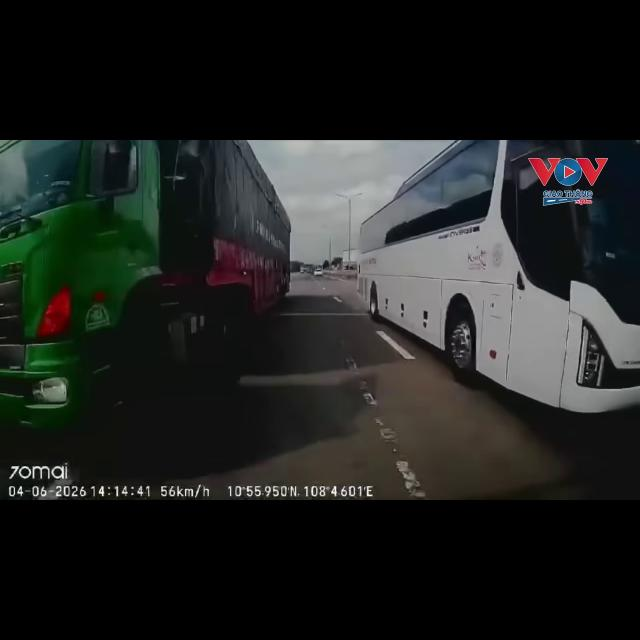bus: (358, 140, 639, 412)
truck: (0, 140, 290, 429)
